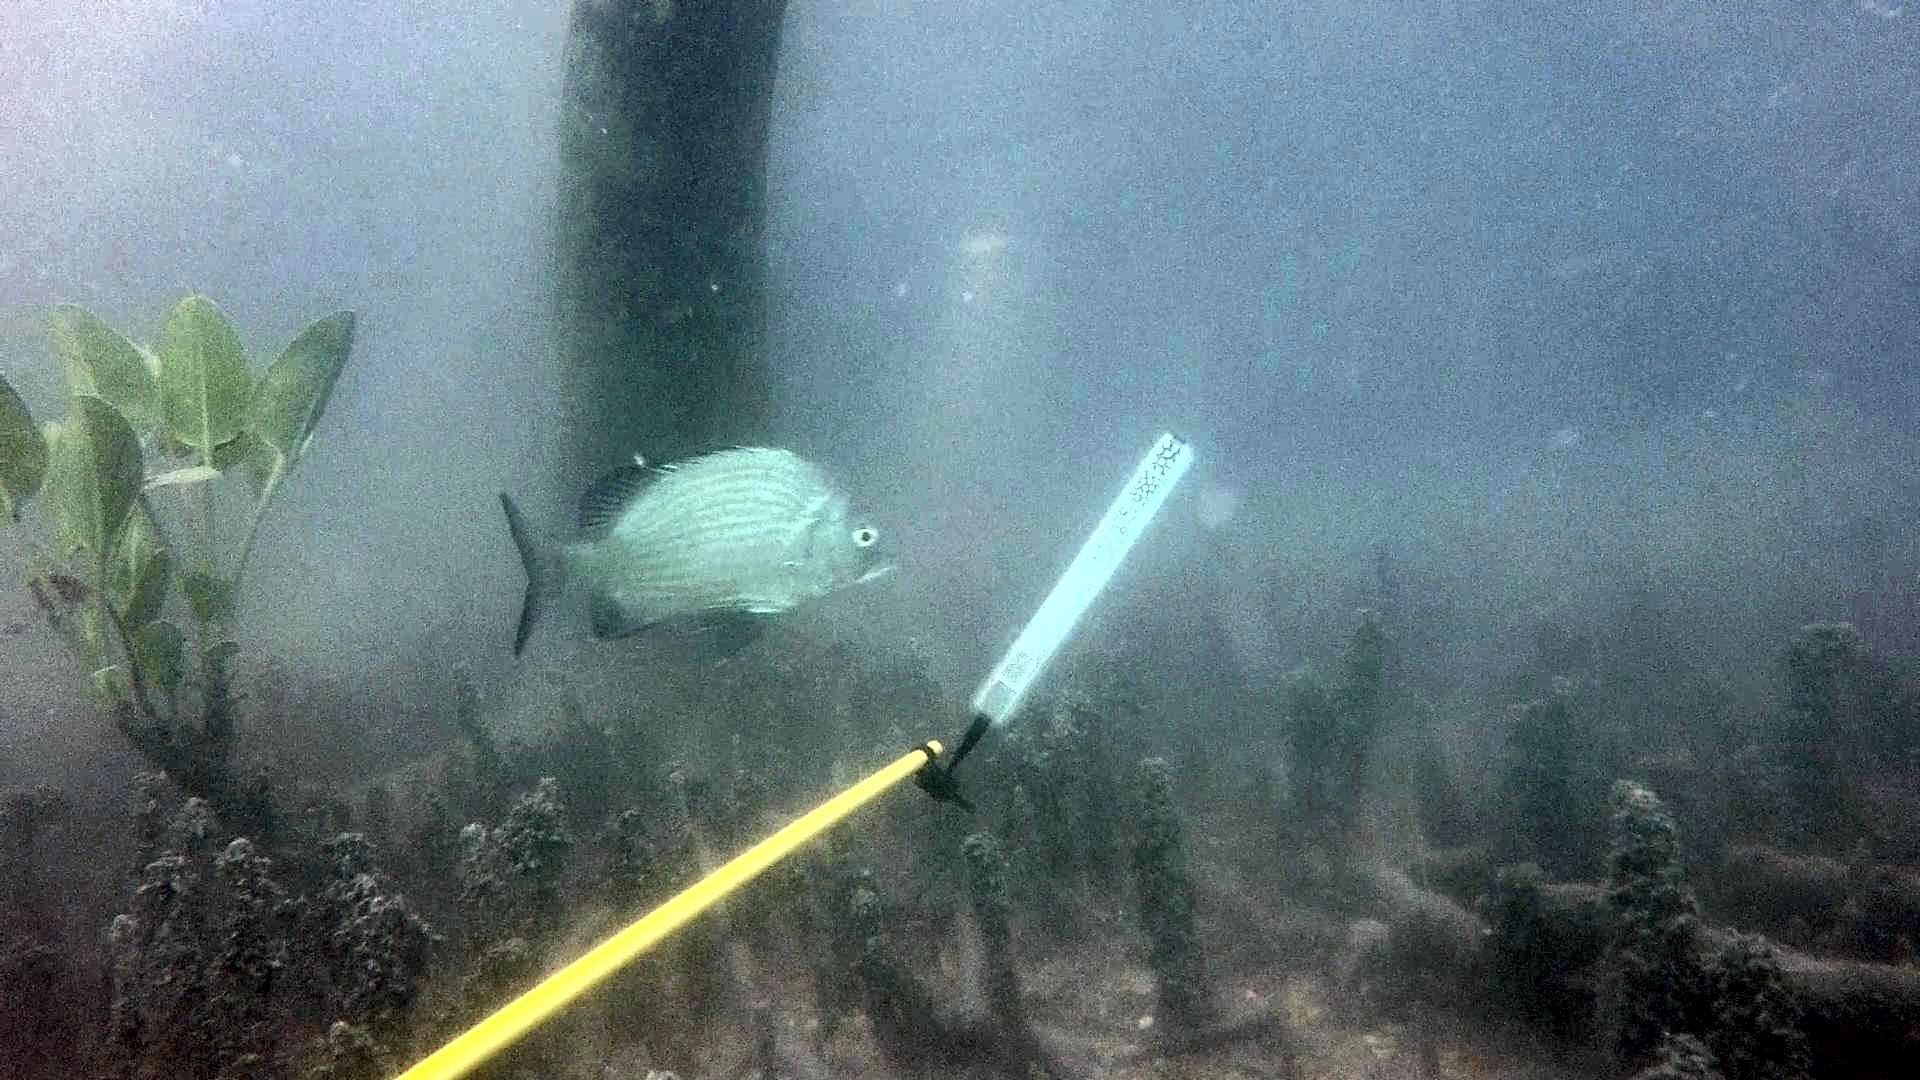acanthopagrus palmaris: (488, 431, 918, 676)
